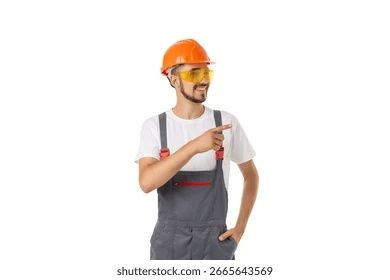safety_goggles: (160, 67, 226, 90)
